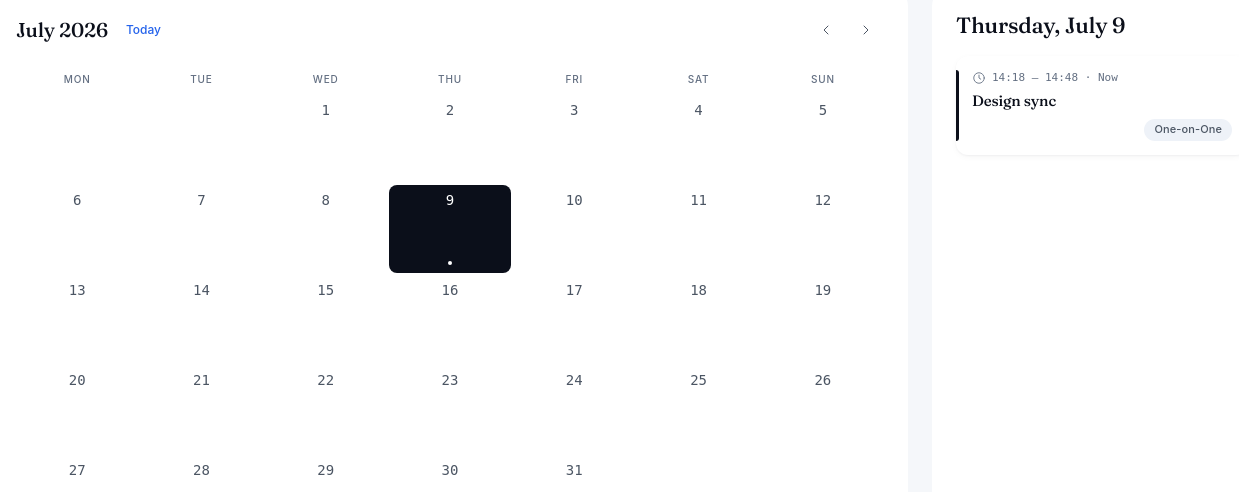
it: CalendarMonthView › selects another day and shows its empty detail panel
Click the button "1": (326, 139) [265,95,387,183]
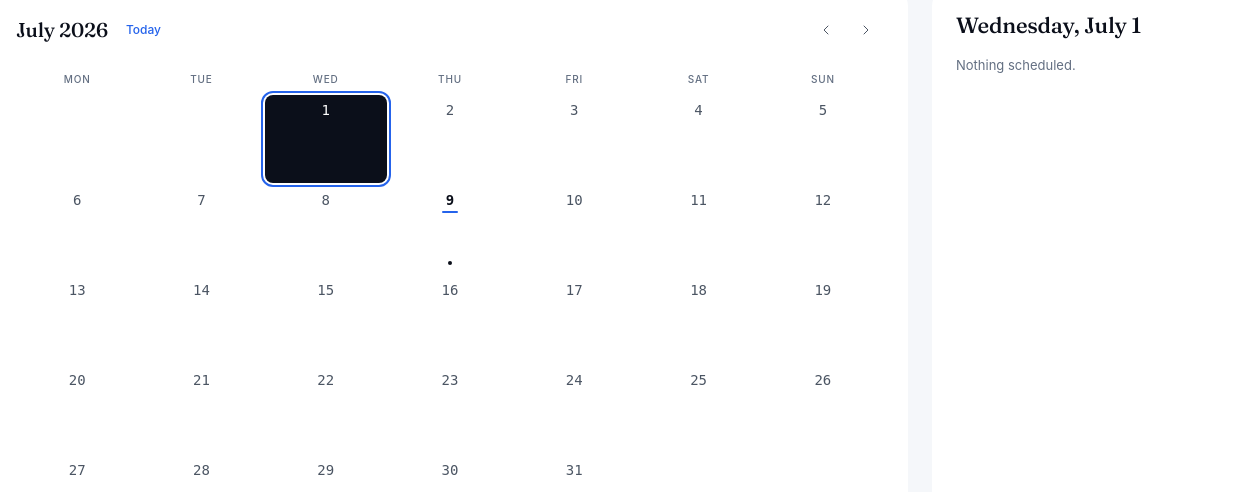
Expected: the text "Nothing scheduled." is shown, [956,56,1076,72]
